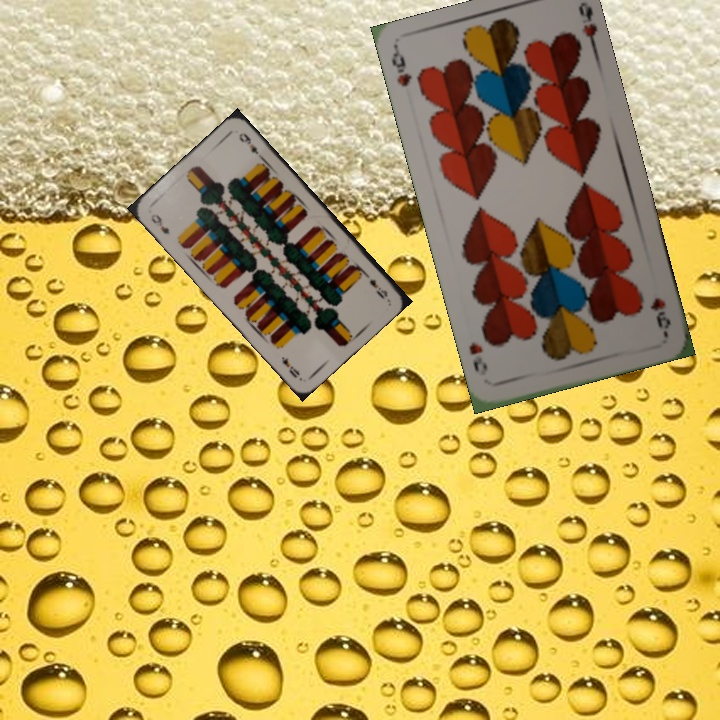E9: (359, 268, 390, 302), (147, 210, 172, 237)
H9: (645, 293, 674, 336), (387, 45, 415, 89)
